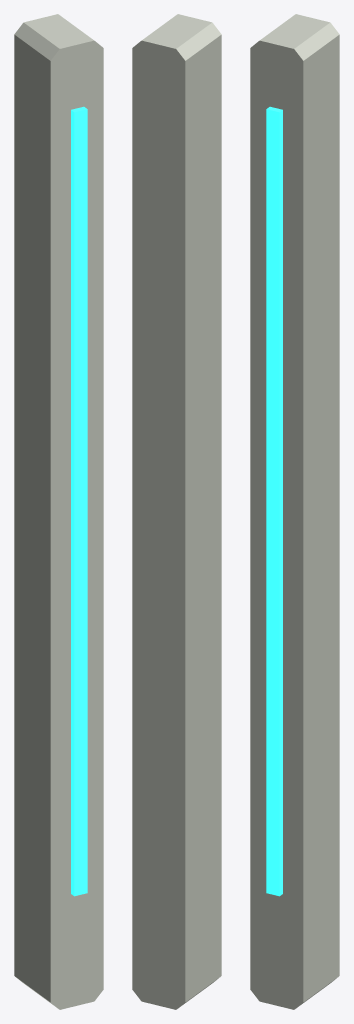
Rendered from City_Streetlight_4m_Mast.glb.
3 views of the same model, side by side, from view 1: azimuth 30°, elevation 25°; view 2: azimuth 150°, elevation 25°; view 3: azimuth 330°, elevation 25° (orthographic).
Parts seen in each view (by area): view 1: City_Streetlight_4m_Mast; view 2: City_Streetlight_4m_Mast; view 3: City_Streetlight_4m_Mast.
Part boxes in pixels (x1,y1,x2,y2): City_Streetlight_4m_Mast: (14, 14, 103, 1009); City_Streetlight_4m_Mast: (132, 14, 221, 1009); City_Streetlight_4m_Mast: (250, 14, 339, 1009).
Bounding box in the file's own units: 0.22 × 3.8 × 0.2875.
